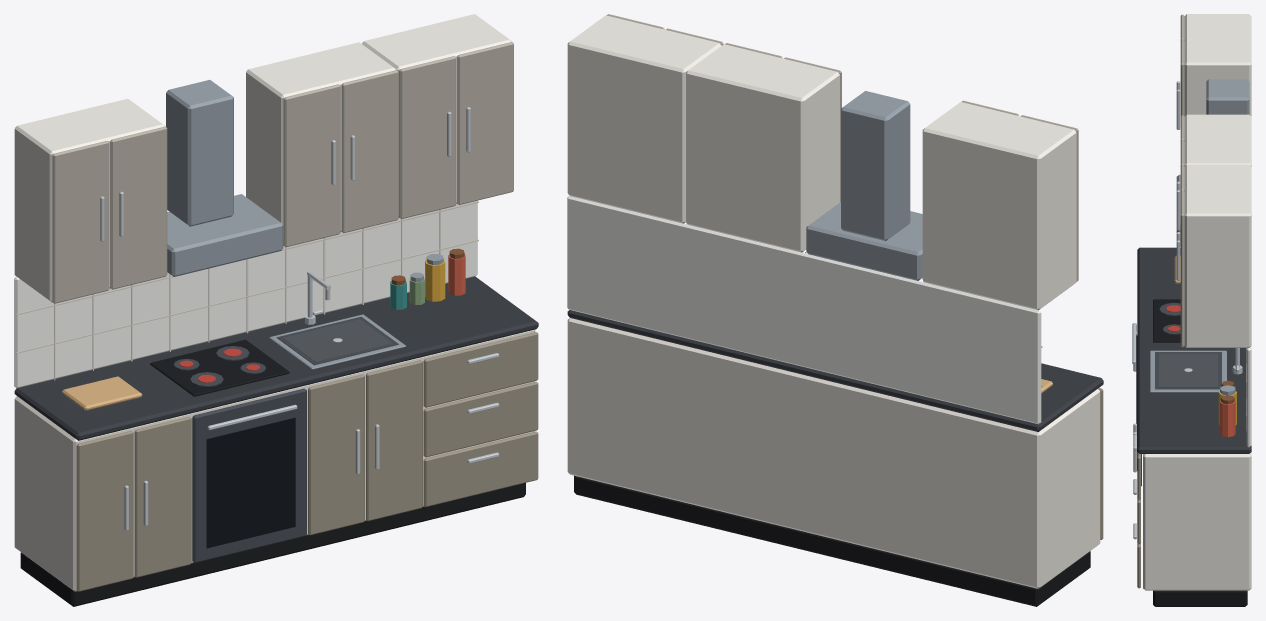
Rendered from kitchen.glb.
3 views of the same model, side by side, from view 1: azimuth 30°, elevation 25°; view 2: azimuth 150°, elevation 25°; view 3: azimuth 270°, elevation 25° (orthographic). The views are drawn at different scales.
Parts seen in each view (by area): view 1: kitchen_Body; view 2: kitchen_Body; view 3: kitchen_Body.
Boxes of the visible parts, x1,y1,x2,y2 form: kitchen_Body: (14, 14, 538, 606); kitchen_Body: (567, 14, 1103, 606); kitchen_Body: (1132, 14, 1251, 606).
Bounding box in the file's own units: 2.4 × 2.2 × 0.6.
